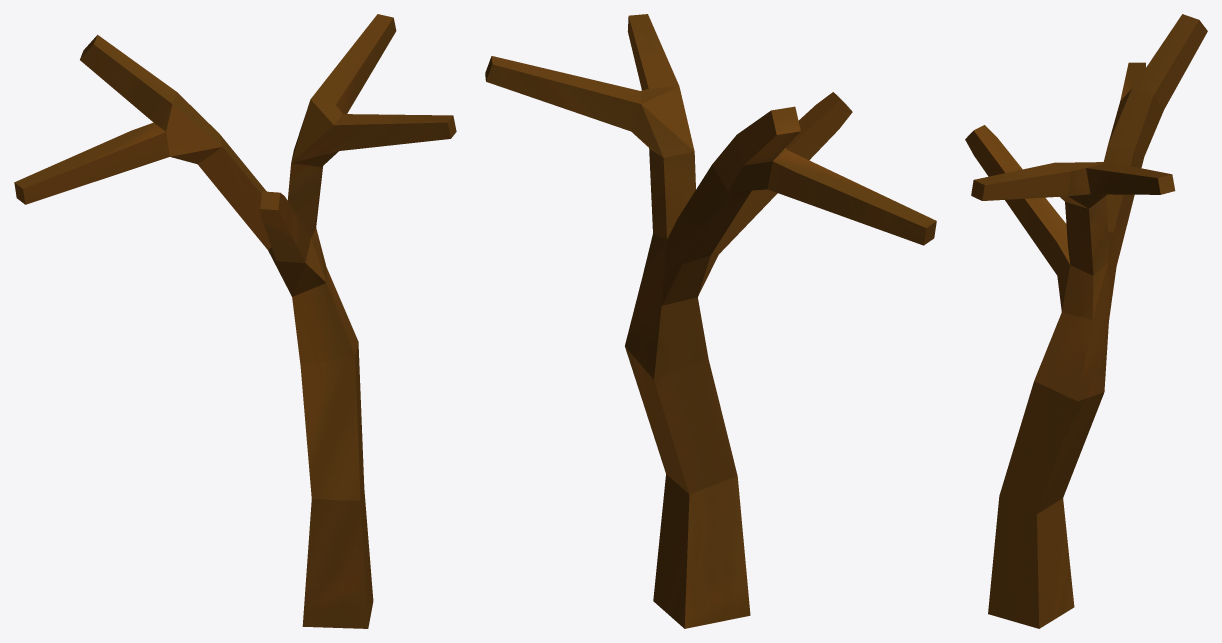
The model's file is kuru_agac3.fbx.
3 views of the same model, side by side, from view 1: azimuth 30°, elevation 25°; view 2: azimuth 150°, elevation 25°; view 3: azimuth 270°, elevation 25° (orthographic). The views are drawn at different scales.
Visible parts, largest first — view 1: olu agac; view 2: olu agac; view 3: olu agac.
Boxes of the visible parts, x1,y1,x2,y2 form: olu agac: [14, 14, 456, 628]; olu agac: [485, 14, 936, 628]; olu agac: [965, 14, 1207, 628].
Bounding box in the file's own units: 4.21 × 5.68 × 2.4.
Materials: 1 (1 with a texture image).
